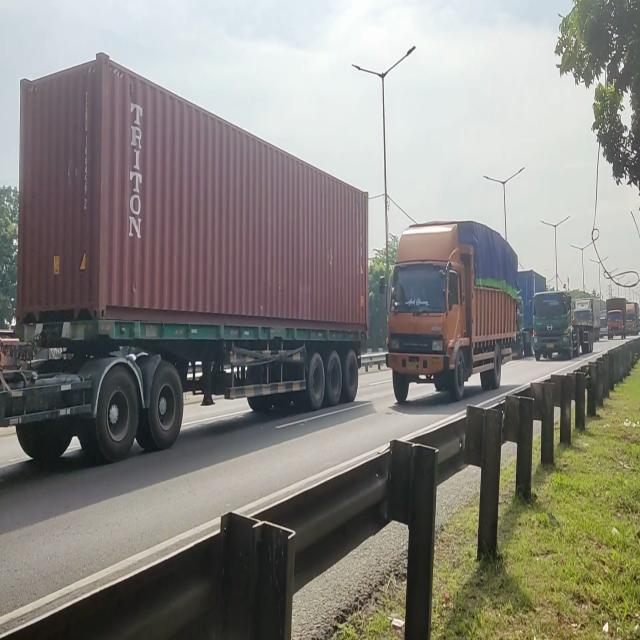Golongan II: (384, 212, 518, 406)
